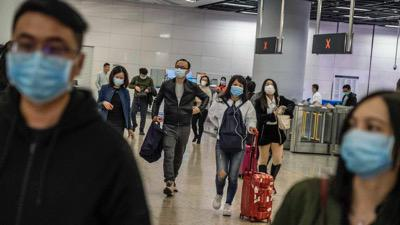with_mask: (5, 32, 74, 105), (342, 114, 395, 178), (230, 82, 243, 99), (175, 65, 187, 79), (112, 75, 124, 87), (264, 82, 275, 95), (200, 79, 207, 87), (343, 89, 349, 96), (139, 75, 147, 80), (311, 86, 315, 95), (220, 80, 225, 86)
without_mask: (104, 66, 110, 74)
